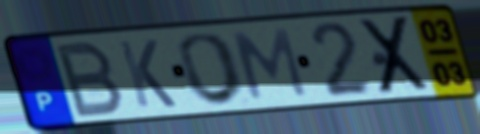2: (308, 20, 376, 101)
B: (54, 38, 127, 120)
K: (115, 37, 180, 110)
M: (229, 26, 311, 102)
O: (175, 30, 251, 108)
X: (357, 12, 435, 98)
